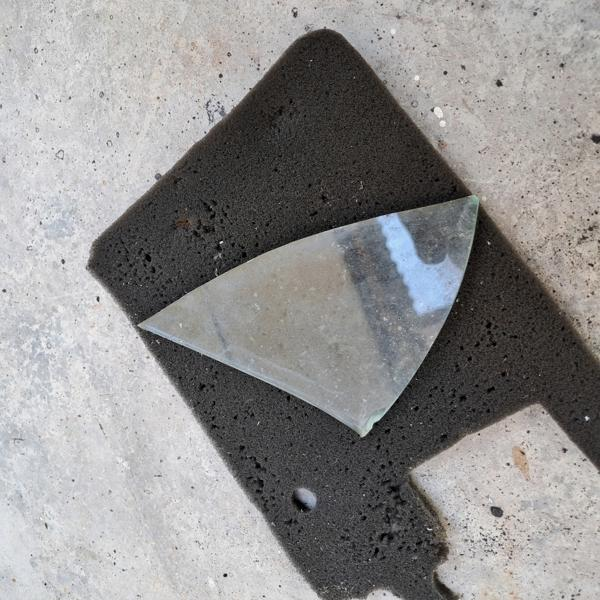Anorganik: (121, 180, 519, 449)
